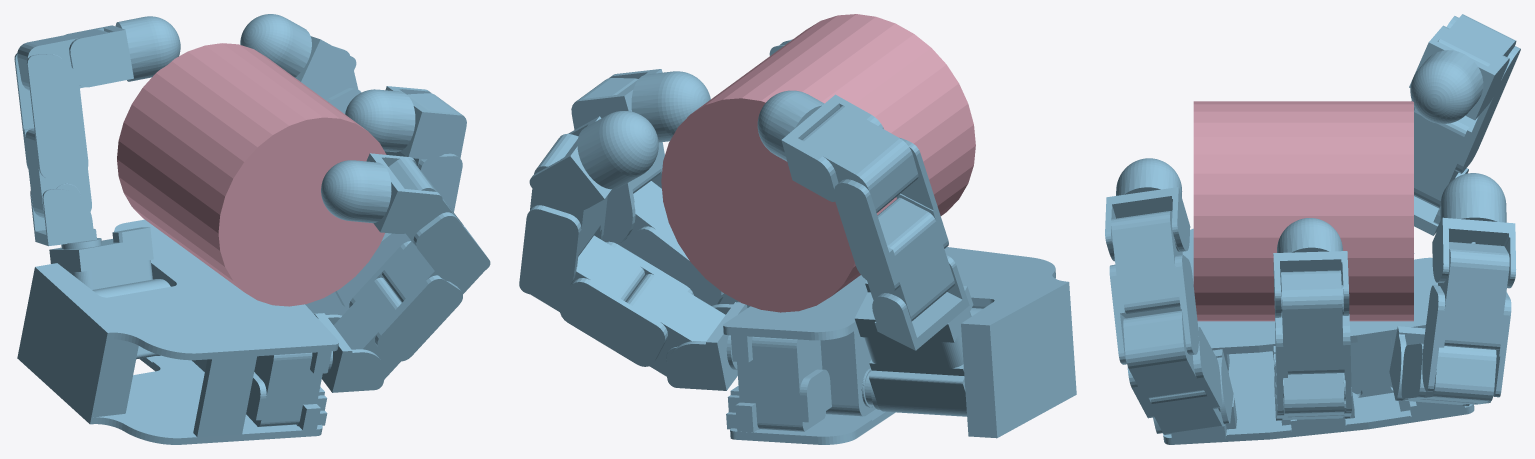
The picture shows the model from 3 angles, left to right: view 1: azimuth 30°, elevation 25°; view 2: azimuth 150°, elevation 25°; view 3: azimuth 270°, elevation 25°; orthographic projection. The views are drawn at different scales.
Parts seen in each view (by area): view 1: world; view 2: world; view 3: world.
Boxes of the visible parts, left/top/right/bottom form: world: left=14, top=14, right=490, bottom=444; world: left=519, top=14, right=1076, bottom=444; world: left=1105, top=14, right=1520, bottom=444.
Size of the model in its own units: 0.1815 by 0.1452 by 0.1511.
